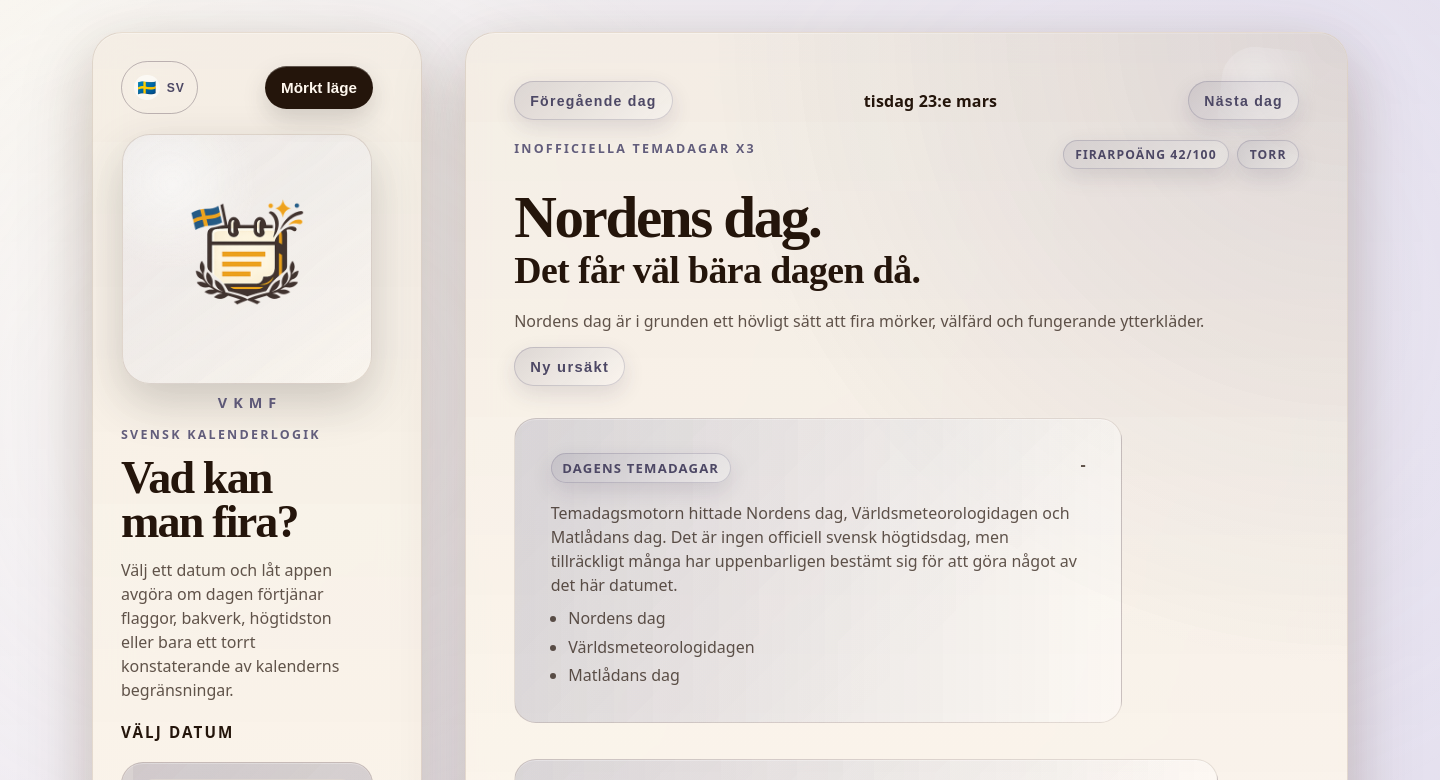
Test: allows collapsing the ordinary theme-day panel from its own heading
Check: the list item "Nordens dag" is shown, box [568,607,666,629]
Click the button "Dagens temadagar -": [641, 468] box [538,442,1099,492]
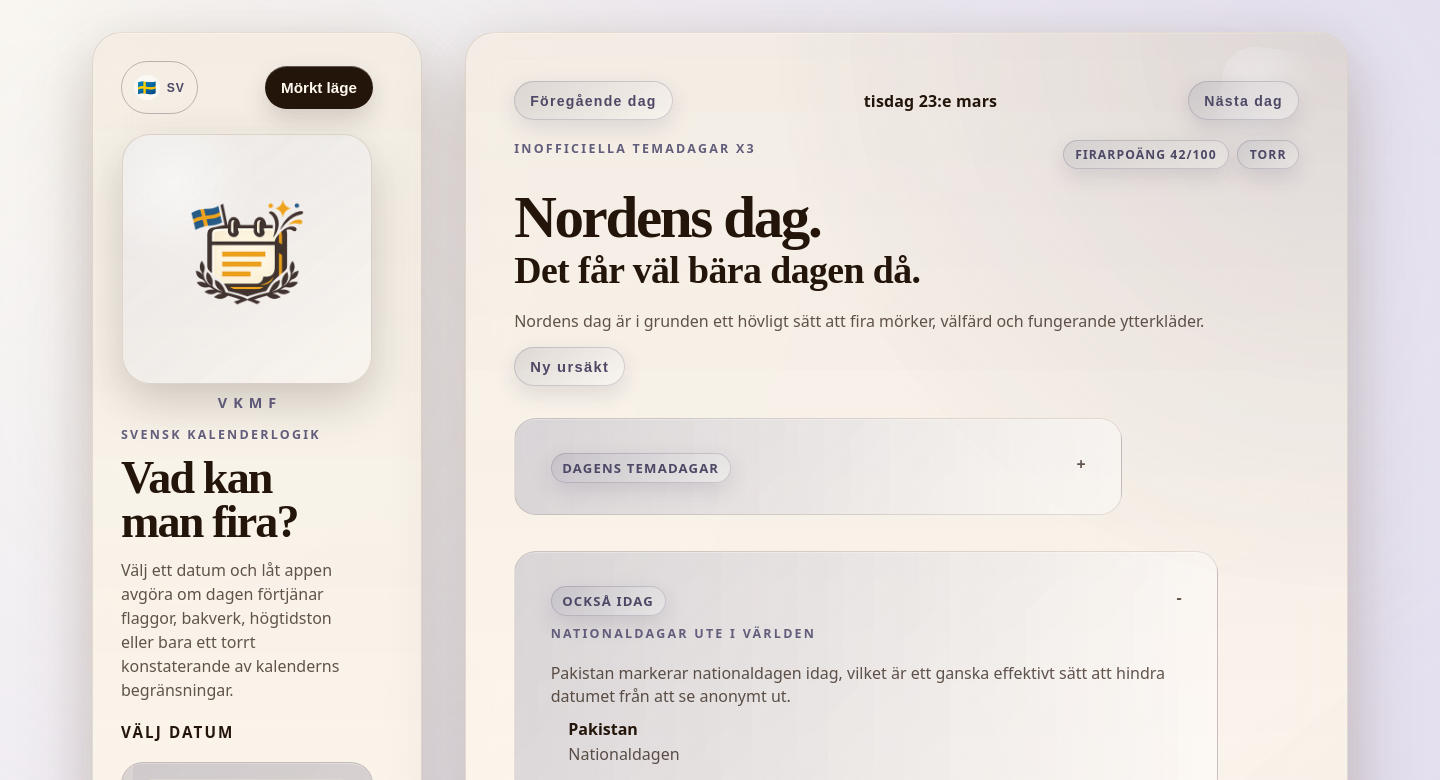
Click the button "Dagens temadagar +": [641, 468] box [538,442,1099,492]
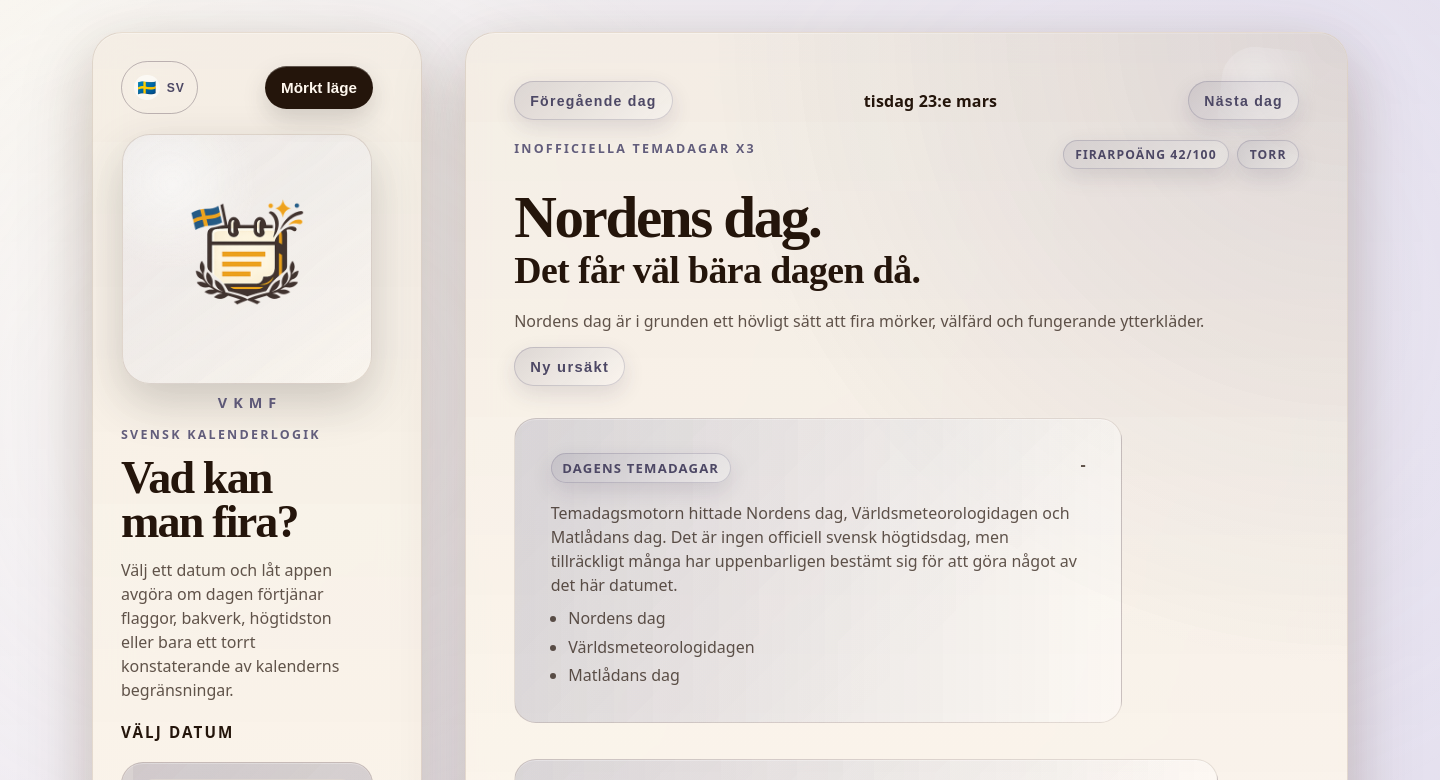
Check: the list item "Nordens dag" is shown, box [568,607,666,629]
